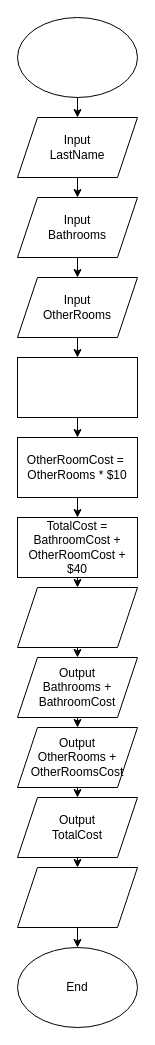
The diagram is 155 pixels wide and 1045 high, and some of its shapes have lost their labels. Here are the shapes that lost their labels. From the top down, the box of each, then its label:
(16, 16, 138, 98): Start
(16, 356, 138, 418): BathroomCost = Bathrooms * $15
(16, 586, 138, 648): Output LastName
(16, 866, 138, 928): Output = "All Details Fullfilled"
